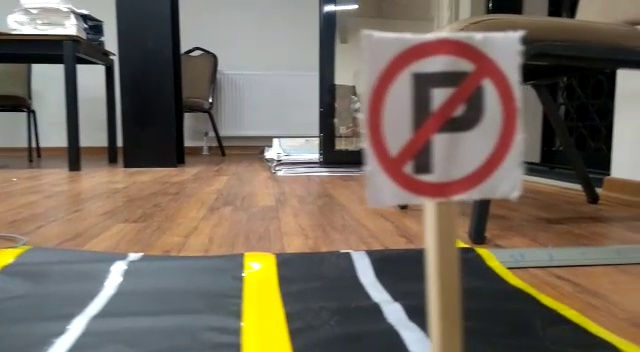park_yapilmaz: (360, 37, 525, 202)
